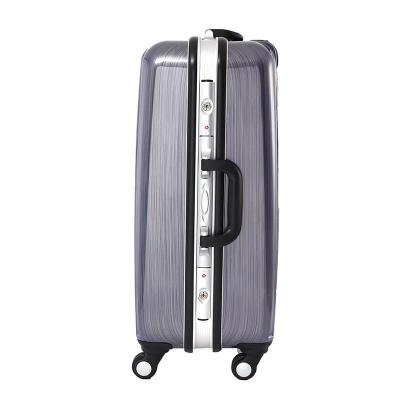luggage: (132, 28, 281, 380)
